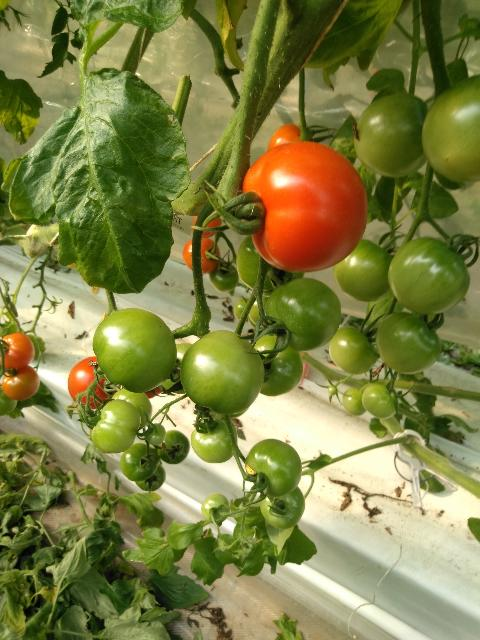l_fully_ripened: (241, 141, 368, 272), (68, 356, 120, 409), (182, 237, 221, 274), (267, 123, 313, 151)
l_green: (92, 308, 177, 393), (180, 330, 264, 415), (387, 237, 470, 315), (421, 74, 480, 182), (353, 93, 428, 177), (265, 277, 341, 351), (236, 234, 305, 298), (376, 312, 443, 374), (333, 239, 393, 302), (245, 438, 303, 497), (252, 333, 303, 396), (91, 399, 142, 453), (329, 325, 378, 375), (190, 416, 238, 463), (260, 486, 305, 529), (110, 388, 153, 431), (161, 343, 193, 394), (120, 443, 160, 481), (361, 382, 399, 419), (156, 430, 190, 464), (201, 493, 231, 524), (134, 463, 165, 491), (210, 262, 238, 292), (342, 389, 366, 416), (146, 423, 166, 445), (328, 386, 337, 395)
l_half_ripened: (2, 366, 40, 401), (0, 332, 35, 369)
